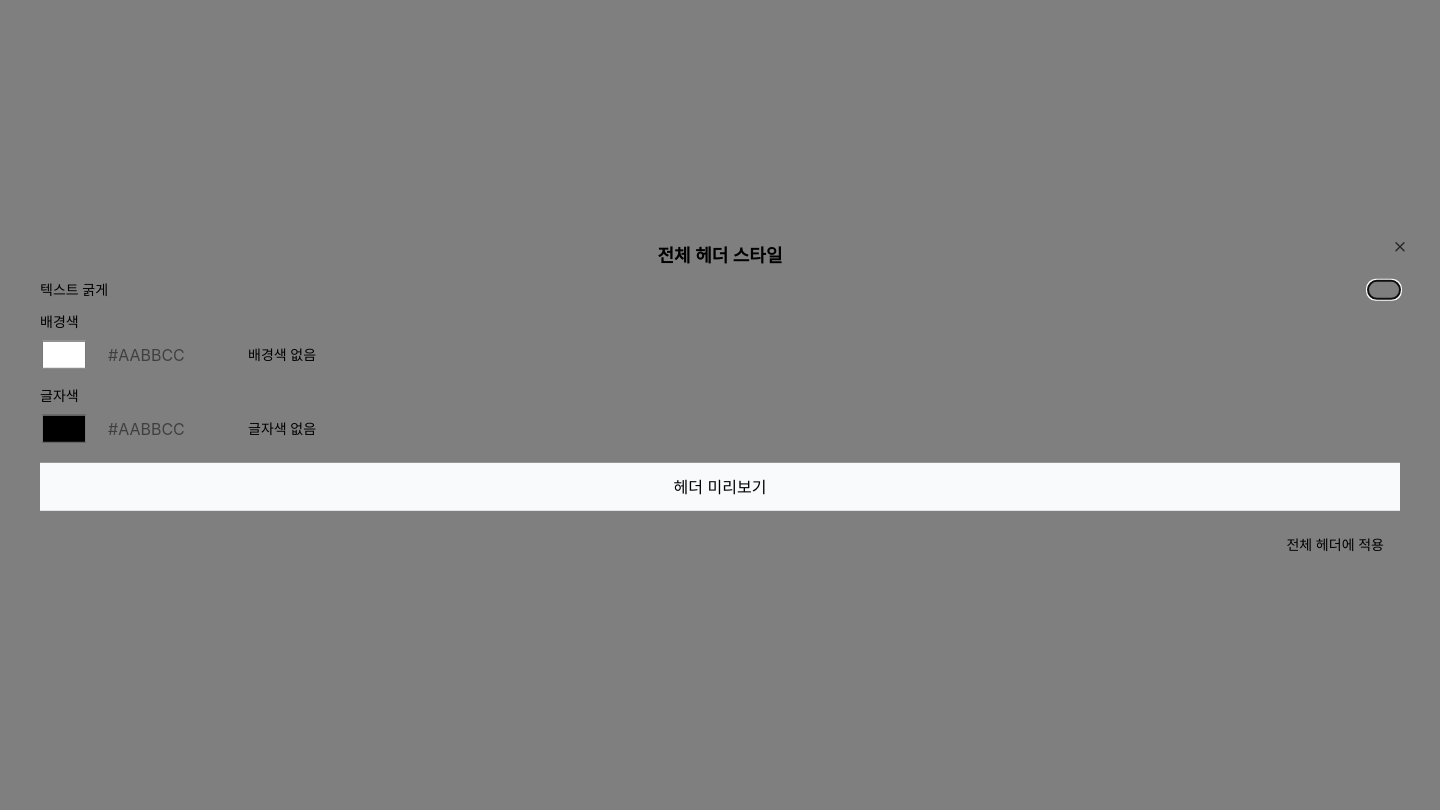
HeaderBulkStyleDialog › 잘못된 HEX는 오류를 표시하고 적용하지 않는다
This screenshot has width=1440, height=810.
In the field named "배경색 HEX": (160, 355) [96,337,224,373], type "12ZZ99"
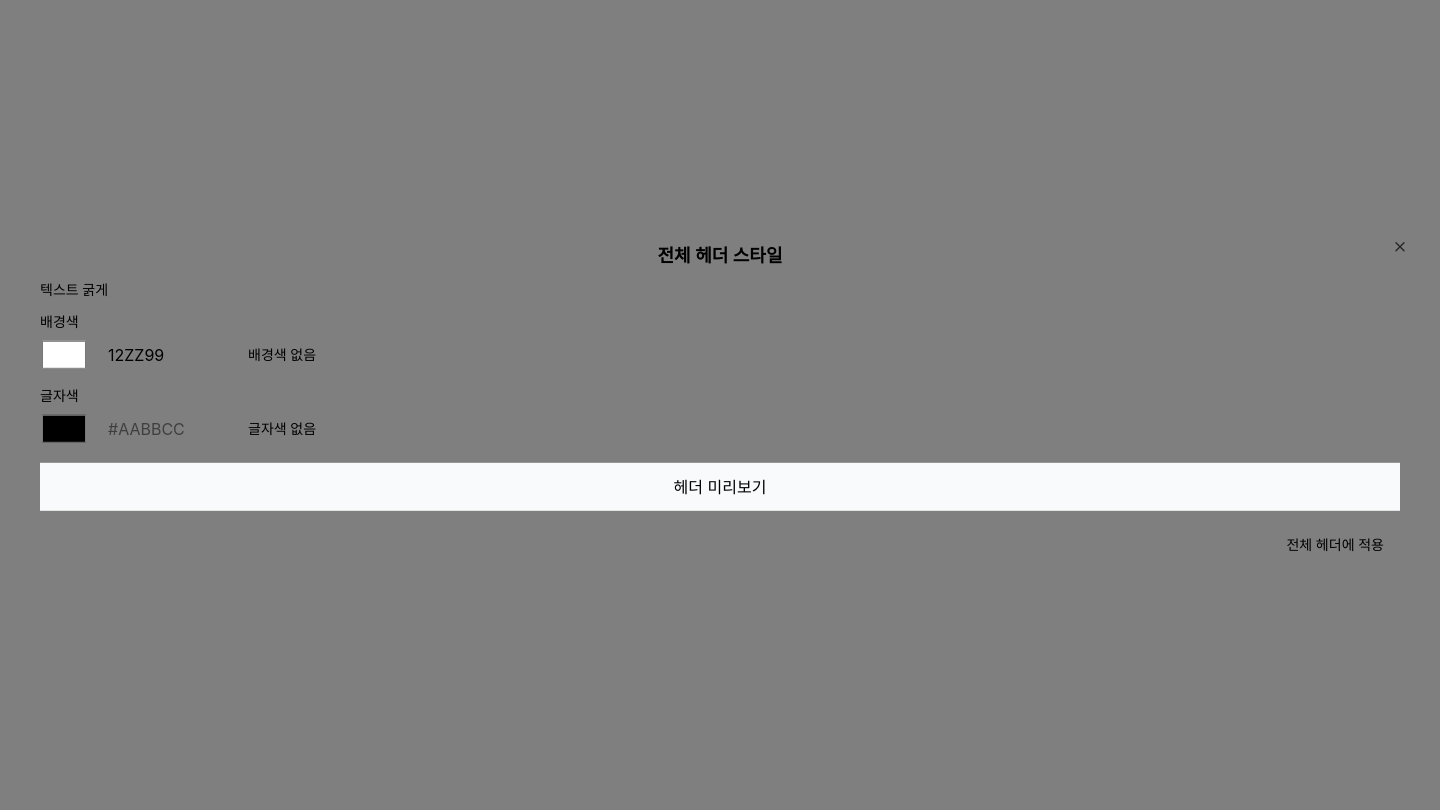
Click the button "전체 헤더에 적용": (1335, 545) [1270,527,1400,563]
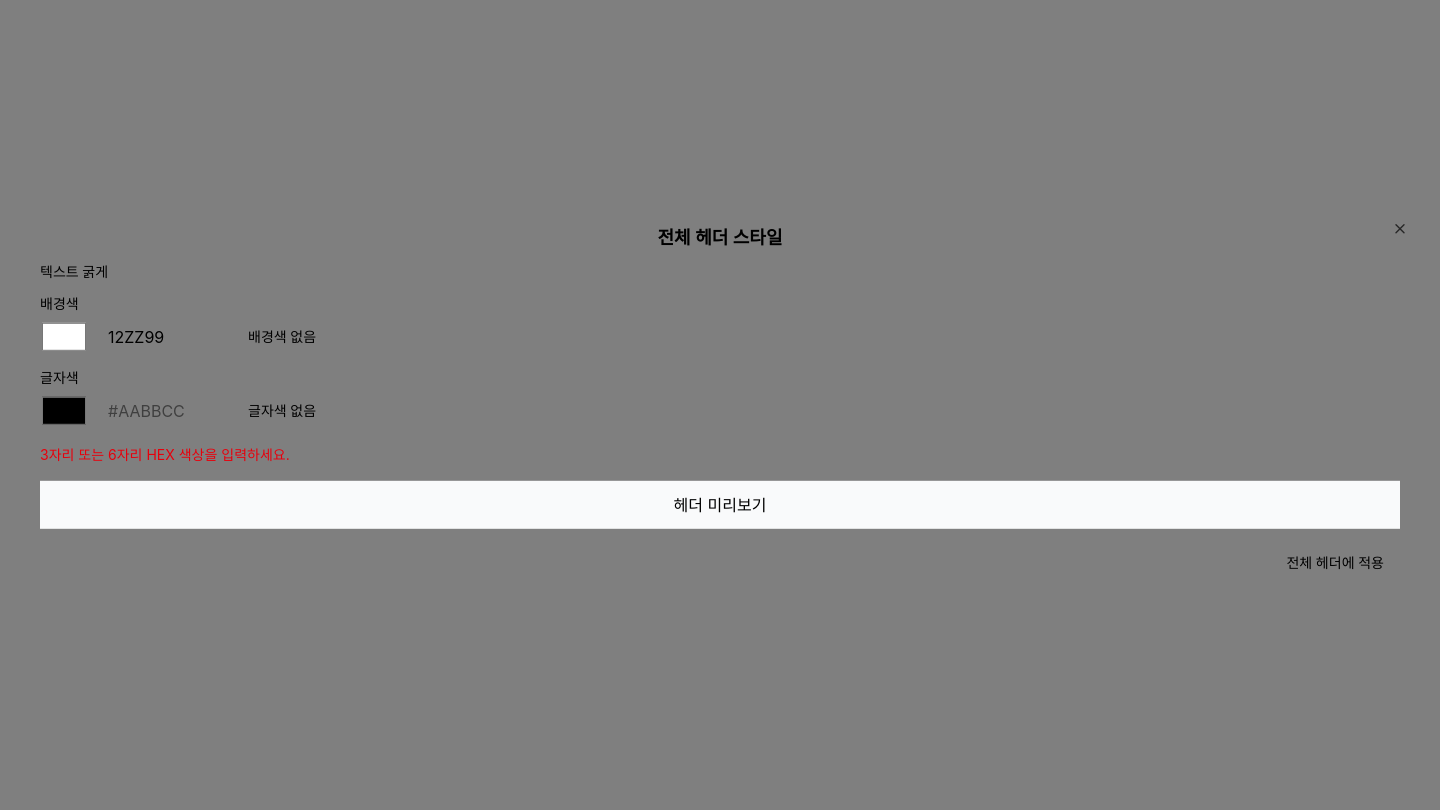
Result: the message reads "3자리 또는 6자리 HEX 색상을 입력하세요." at [40,446,290,463]
